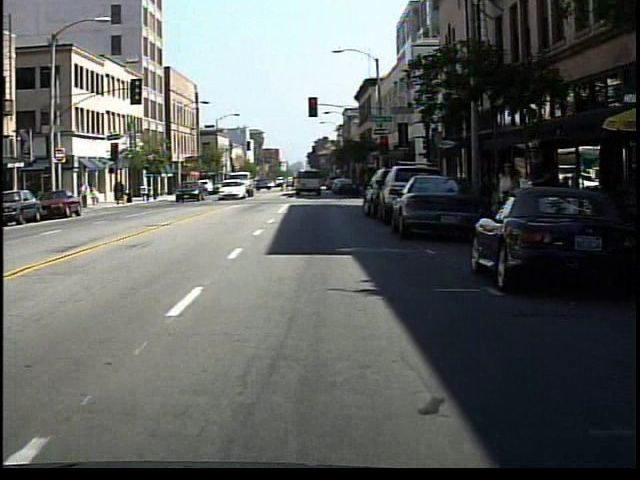person: (523, 139, 558, 260), (495, 155, 522, 256), (78, 178, 94, 211), (91, 183, 105, 209)
